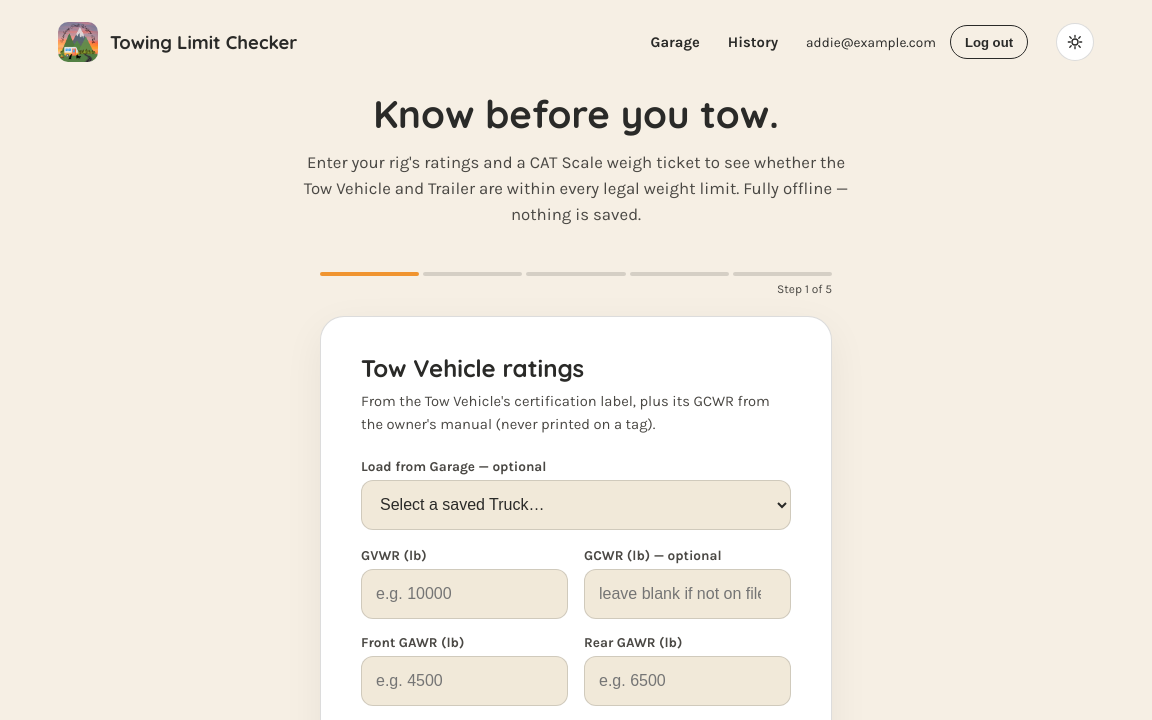
Test: Calculator "load from Garage" picker (issue #44) › presents saved Profiles and populates the Truck/Trailer fields when one is picked
expect the link "Garage" is shown: met, box [650,34,700,50]
Select "Big Blue" in the dropdown labelled "Load from Garage — optional" at (576, 505), box [361,480,791,530]
(page scrolled)
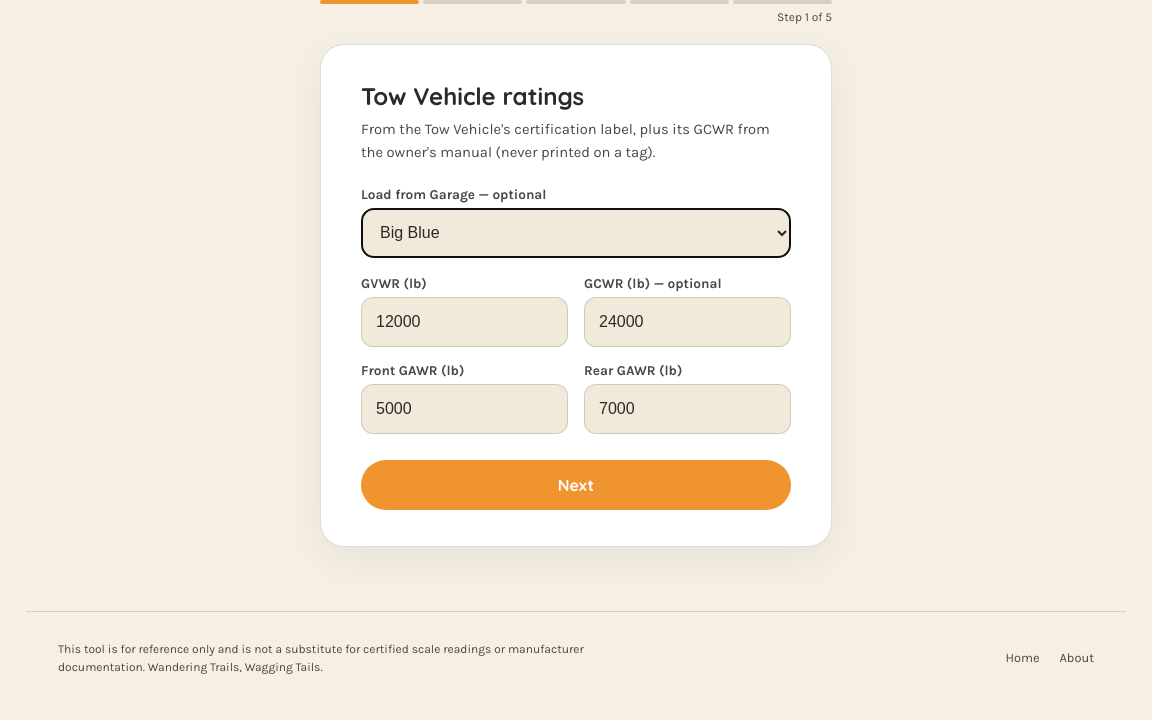
expect the number field labelled "GVWR (lb)" holds "12000": met, box [361,297,568,347]
expect the number field labelled "Front GAWR (lb)" holds "5000": met, box [361,384,568,434]
expect the number field labelled "Rear GAWR (lb)" holds "7000": met, box [584,384,791,434]
Click the button "Next" at (576, 485), box [361,460,791,510]
(page scrolled)
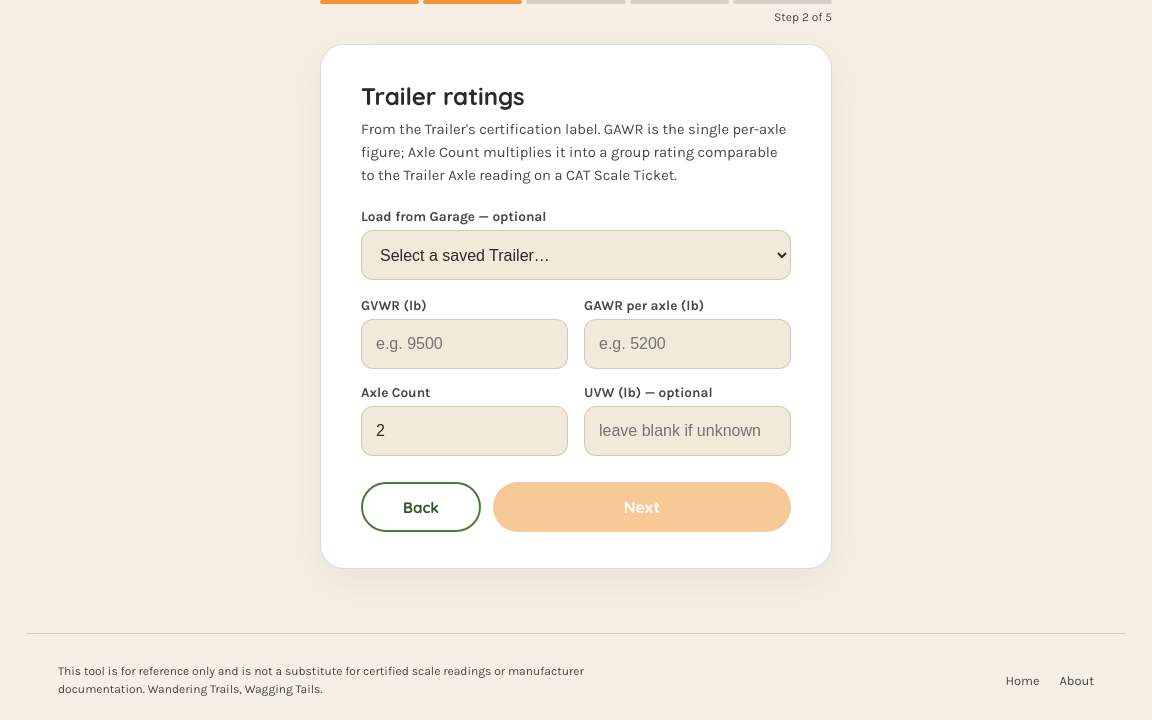
Select "Silver Streak" in the dropdown labelled "Load from Garage — optional" at (576, 255), box [361,230,791,280]
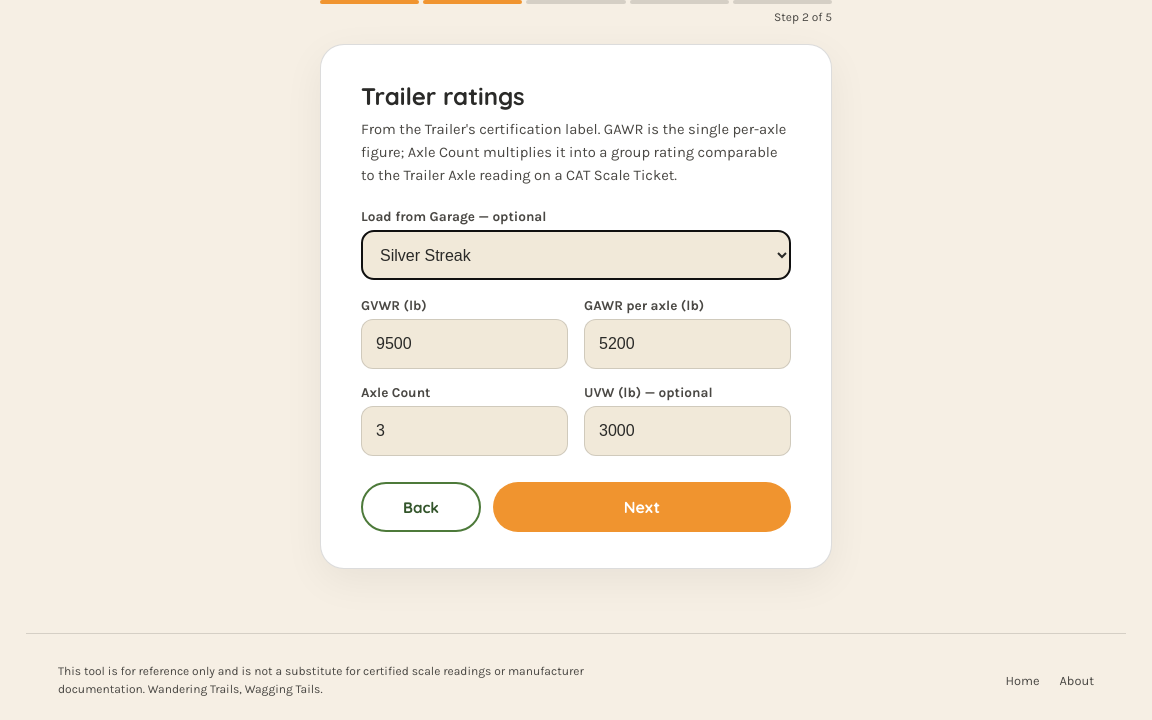
expect the number field labelled "GVWR (lb)" holds "9500": met, box [361,319,568,369]
expect the number field labelled "GAWR per axle (lb)" holds "5200": met, box [584,319,791,369]
expect the number field labelled "Axle Count" holds "3": met, box [361,406,568,456]
